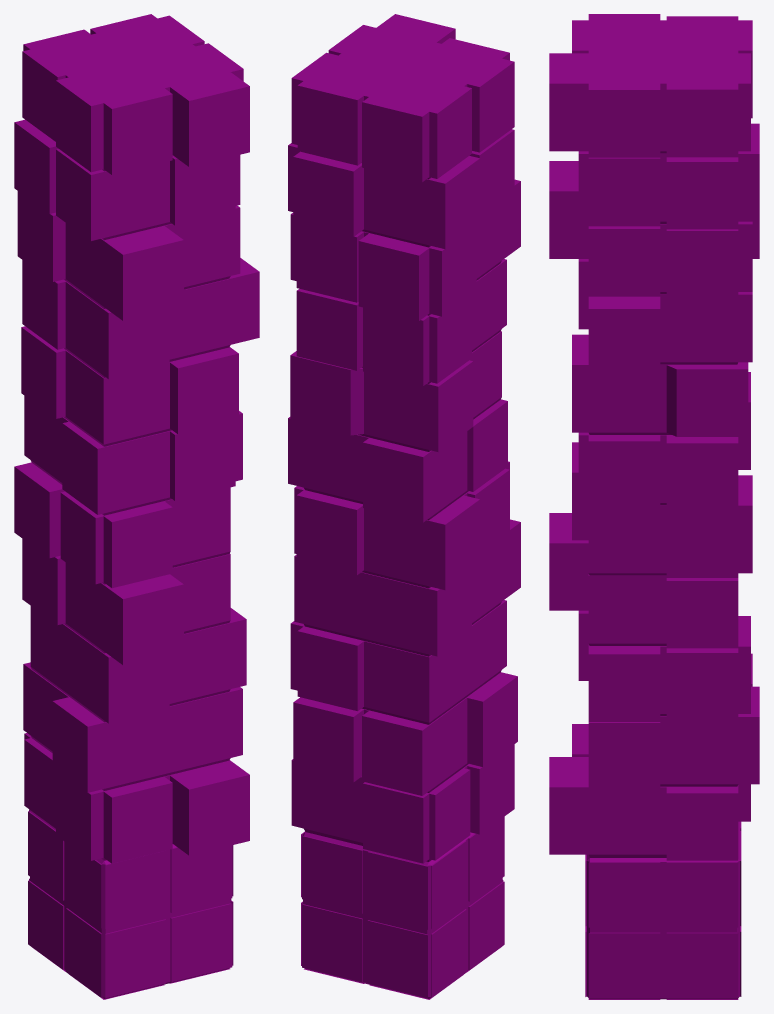
The model's file is piller.gltf.
3 views of the same model, side by side, from view 1: azimuth 30°, elevation 25°; view 2: azimuth 150°, elevation 25°; view 3: azimuth 270°, elevation 25° (orthographic). The views are drawn at different scales.
Parts seen in each view (by area): view 1: 柱; view 2: 柱; view 3: 柱.
Part boxes in pixels (box(x1,y1,x2,y2)): 柱: box(14, 14, 259, 999); 柱: box(288, 14, 520, 999); 柱: box(549, 14, 759, 999).
Size of the model in its own units: 6.39 by 31.84 by 6.62.
1 material, 1 textured.
